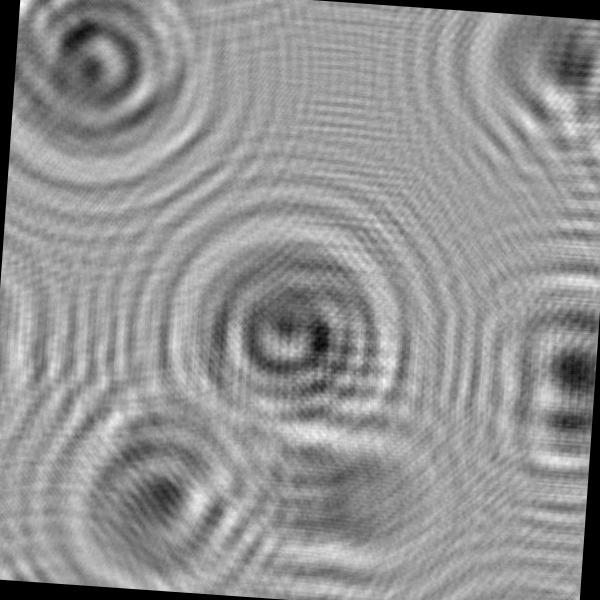F: (423, 224, 600, 515)
G: (130, 172, 446, 474), (7, 0, 243, 210)
I: (192, 381, 479, 600)
J: (17, 348, 284, 598), (437, 10, 600, 205)
